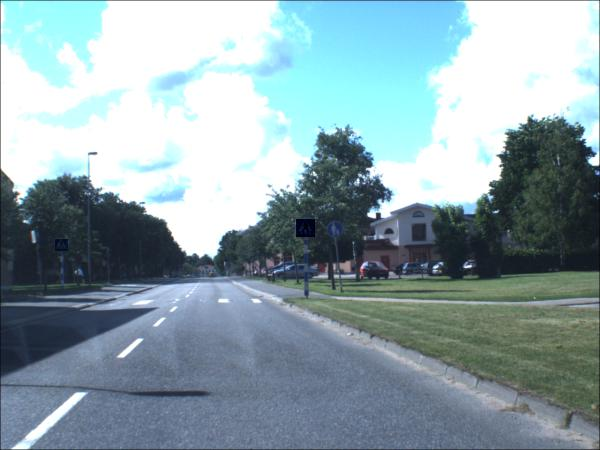PEDESTRIAN_CROSSING: (297, 220, 317, 239), (56, 240, 70, 253)
